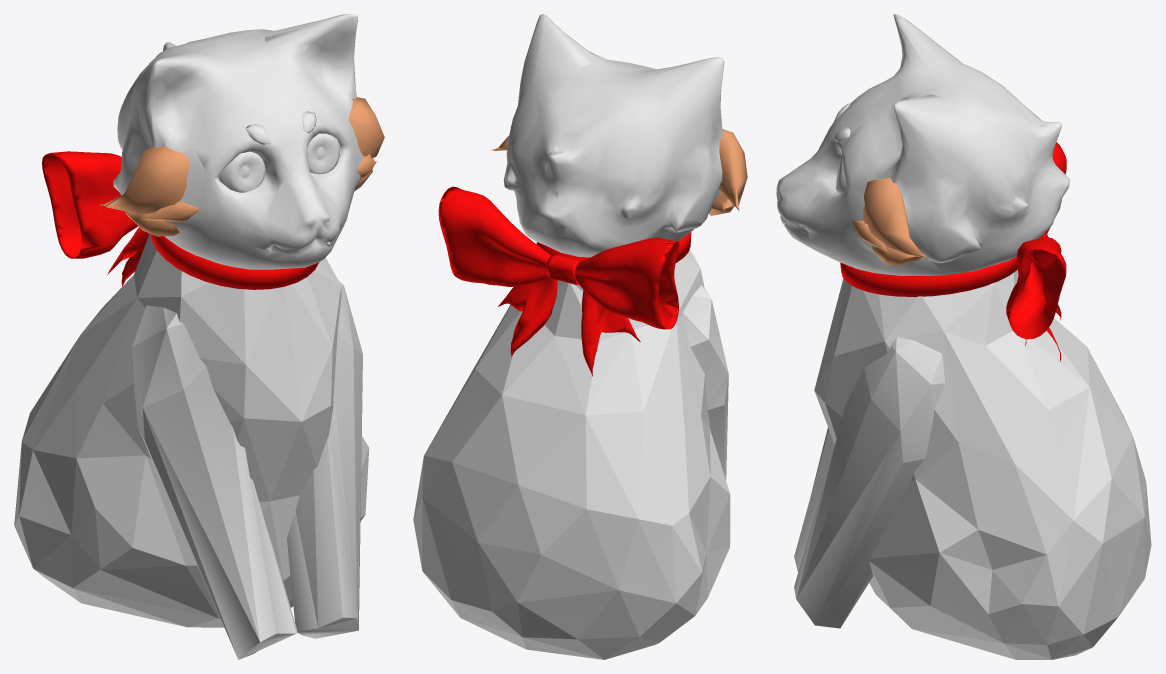
File: Cat.fbx
3 views of the same model, side by side, from view 1: azimuth 30°, elevation 25°; view 2: azimuth 150°, elevation 25°; view 3: azimuth 270°, elevation 25° (orthographic). The views are drawn at different scales.
Visible parts, largest first — view 1: base body, base head, arm left, bow, hair tufts, collar, eyelefttux.001, eyelefttux, brows; view 2: base body, base head, bow, arm left, hair tufts, collar; view 3: base body, base head, arm left, bow, hair tufts, collar.
Boxes of the visible parts, left/top/right/bottom form: base body: left=14, top=233, right=369, bottom=627; base head: left=113, top=14, right=363, bottom=269; arm left: left=132, top=280, right=362, bottom=659; bow: left=42, top=151, right=149, bottom=286; hair tufts: left=100, top=97, right=384, bottom=236; collar: left=150, top=234, right=319, bottom=289; eyelefttux.001: left=218, top=151, right=265, bottom=192; eyelefttux: left=307, top=133, right=339, bottom=174; brows: left=245, top=111, right=316, bottom=144; base body: left=413, top=249, right=730, bottom=659; base head: left=503, top=14, right=724, bottom=257; bow: left=438, top=186, right=679, bottom=376; arm left: left=682, top=285, right=728, bottom=480; hair tufts: left=490, top=129, right=747, bottom=215; collar: left=536, top=232, right=691, bottom=262; base body: left=814, top=270, right=1151, bottom=659; base head: left=776, top=14, right=1070, bottom=275; arm left: left=794, top=337, right=945, bottom=628; bow: left=1006, top=142, right=1066, bottom=361; hair tufts: left=852, top=178, right=929, bottom=265; collar: left=840, top=256, right=1017, bottom=296.
Size of the model in its own units: 181 by 337 by 201.
